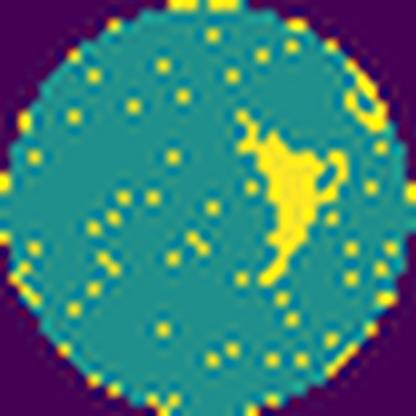Loc: (231, 111, 349, 286)
